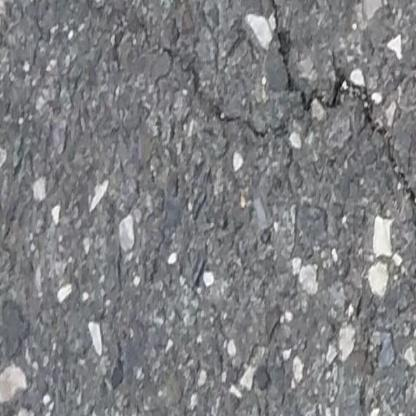Cracks: (159, 0, 416, 240)
